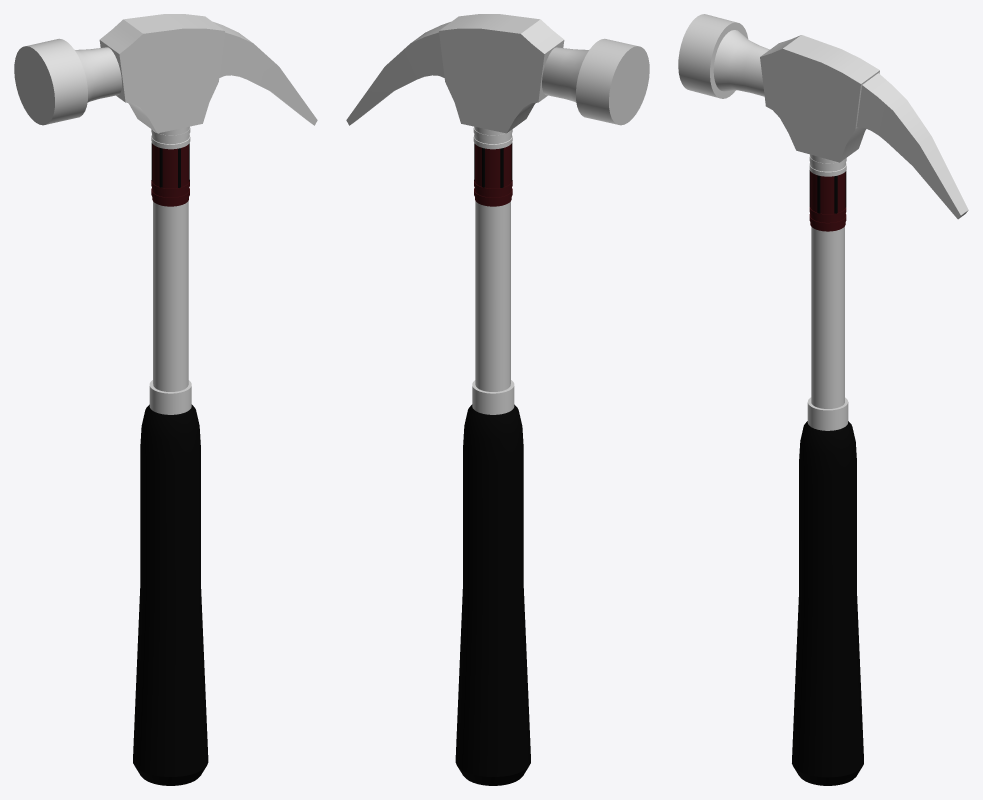
File: hammer.fbx
3 renders of one model, left to right at view 1: azimuth 30°, elevation 25°; view 2: azimuth 150°, elevation 25°; view 3: azimuth 330°, elevation 25°, orthographic. The views are drawn at different scales.
Parts seen in each view (by area): view 1: Cylinder.002; view 2: Cylinder.002; view 3: Cylinder.002.
Boxes of the visible parts, x1,y1,x2,y2 form: Cylinder.002: (14, 14, 317, 785); Cylinder.002: (346, 14, 649, 785); Cylinder.002: (678, 14, 968, 785).
Bounding box in the file's own units: 557 × 1443 × 141.
